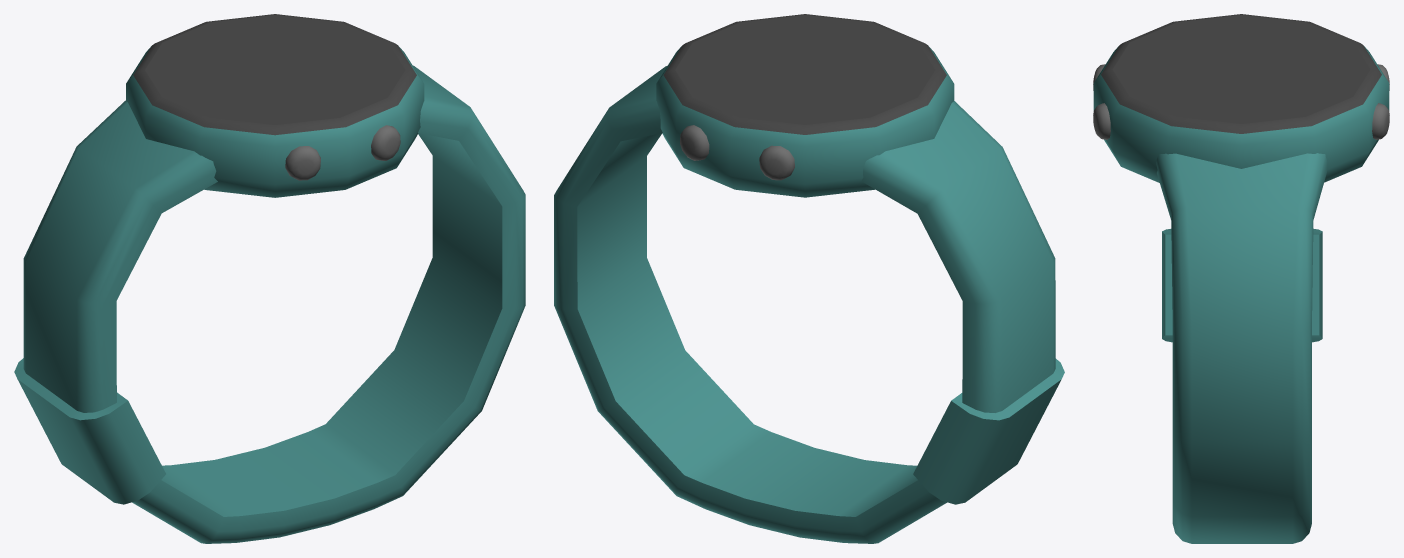
The model's file is Hand Watch_1.fbx.
3 views of the same model, side by side, from view 1: azimuth 30°, elevation 25°; view 2: azimuth 150°, elevation 25°; view 3: azimuth 270°, elevation 25° (orthographic).
Parts seen in each view (by area): view 1: Hand Watch_1; view 2: Hand Watch_1; view 3: Hand Watch_1.
Part boxes in pixels (x1,y1,x2,y2): Hand Watch_1: (14, 14, 525, 543); Hand Watch_1: (554, 14, 1064, 543); Hand Watch_1: (1093, 14, 1389, 543).
Size of the model in its own units: 0.1117 by 0.1038 by 0.0637.
